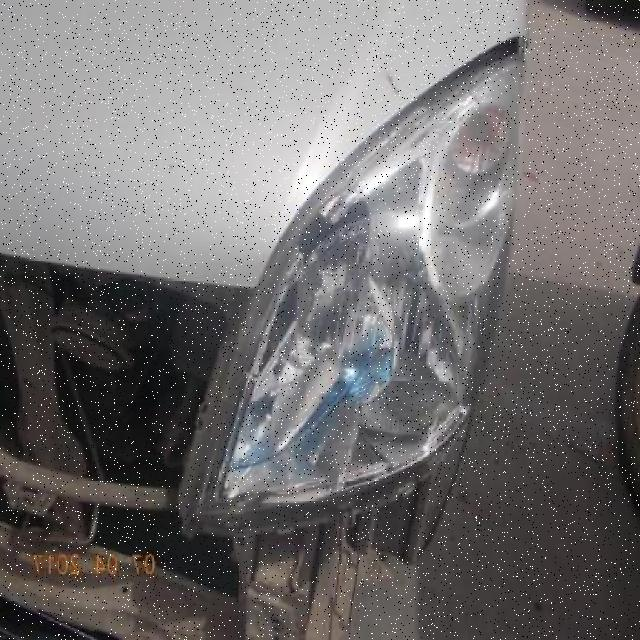damage: (0, 253, 468, 640), (218, 190, 418, 493)
